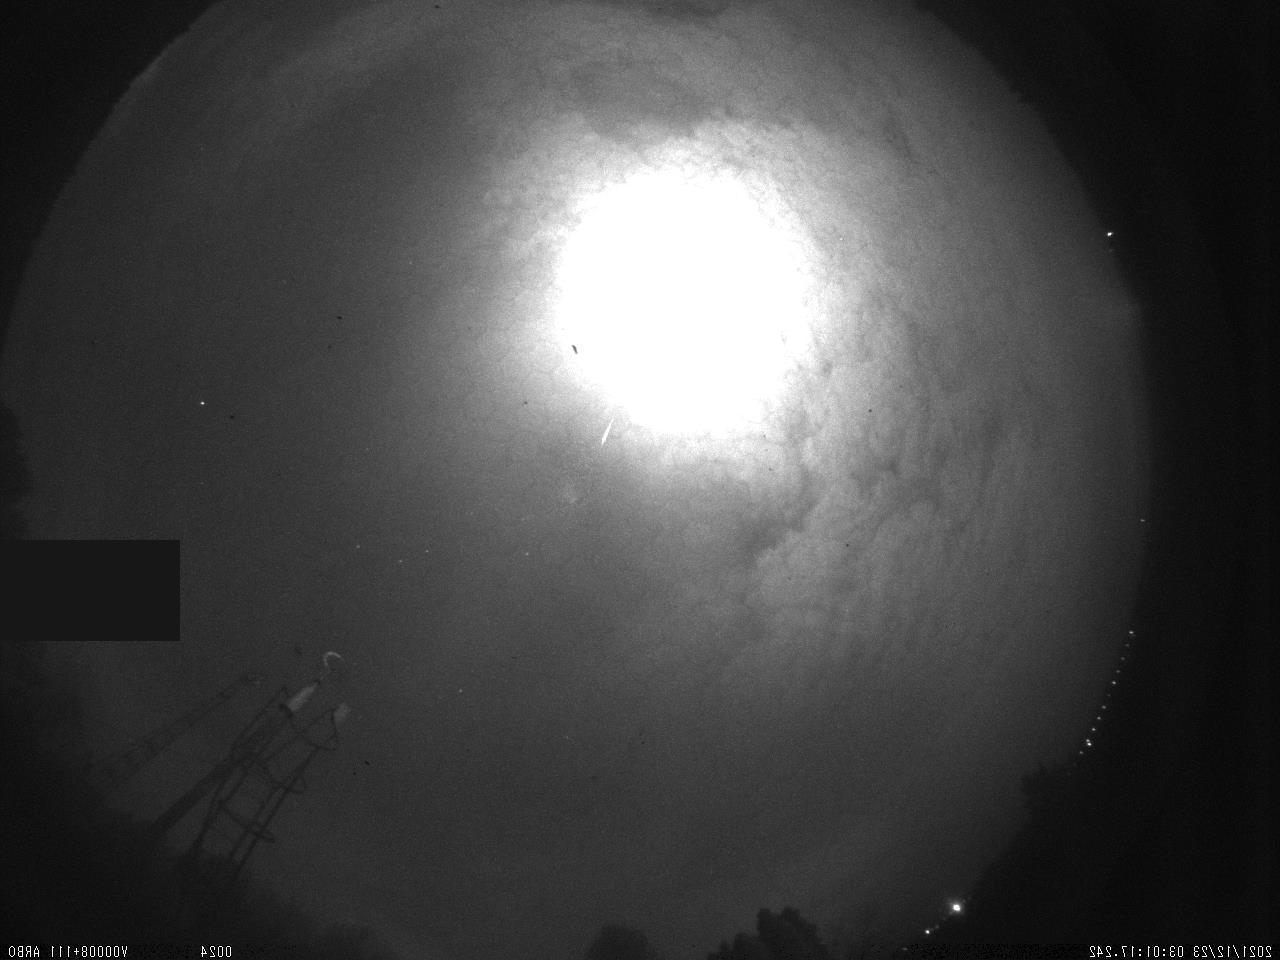meteor: (598, 408, 616, 450)
